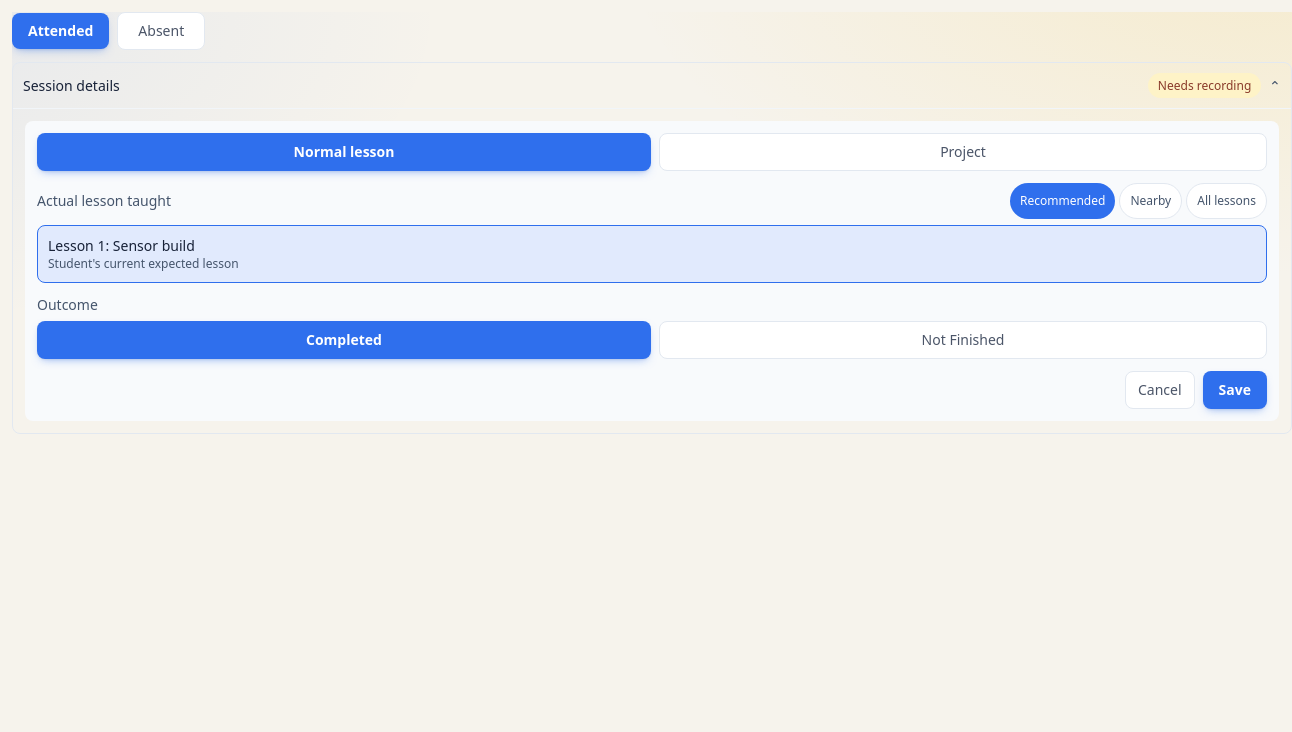
Test: compact session entries › keeps the entry expanded and editable after a failed save
Click the button "Save": (1235, 390) [1203,371,1267,409]
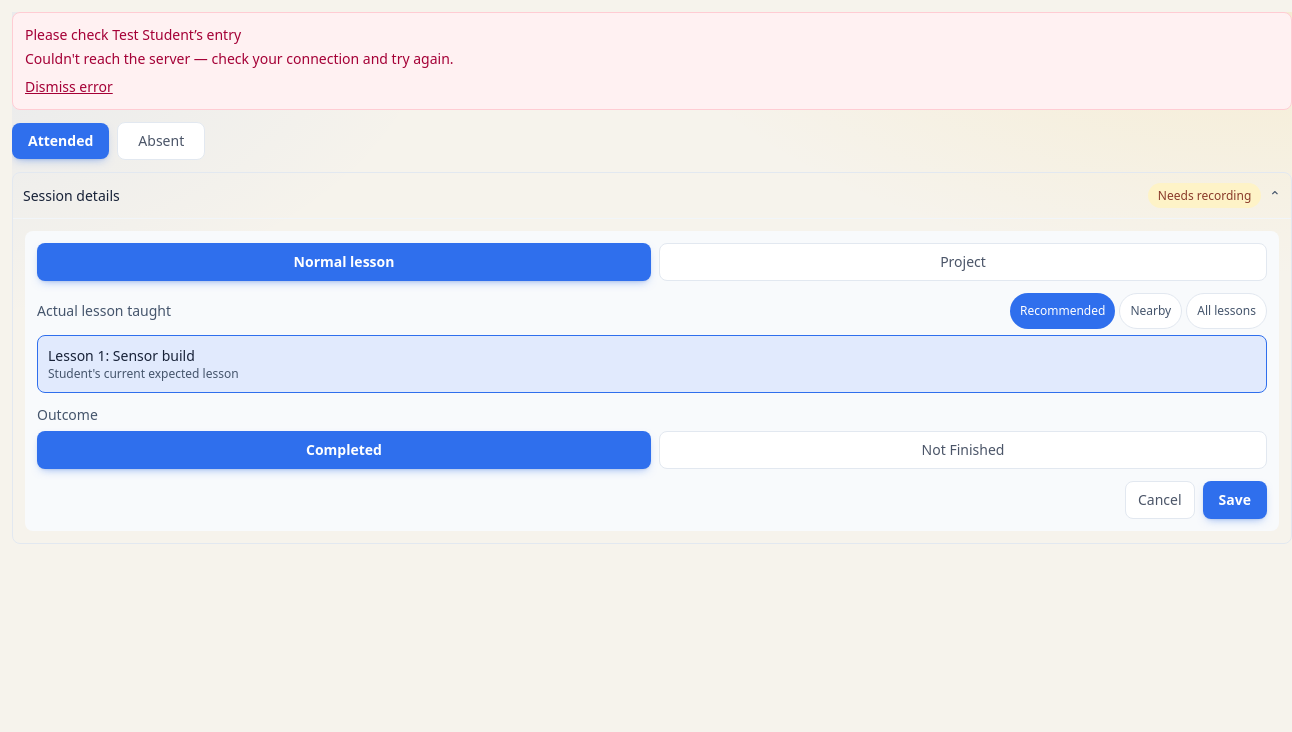
Check: the button "Save" is enabled, box [1203,481,1267,519]
Check: the number of messages is 1, box [12,12,1291,110]
